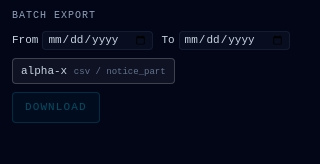
Test case: BatchExportPanel › download stays disabled until both dates and a profile are set; from after to blocks
Check: the element showing "Batch export From To alpha-x csv / notice_part Download" is shown, box [12,10,290,122]
Check: the button "Download" is disabled, box [12,92,100,122]
Type "2026-10-01" into the date field labelled "From" at (98, 40), box [42,31,153,50]
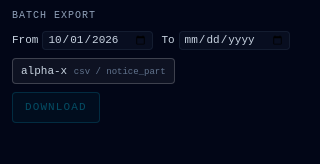
Check: the button "Download" is disabled, box [12,92,100,122]
Type "2026-10-05" into the date field labelled "To" at (234, 40), box [179,31,290,50]
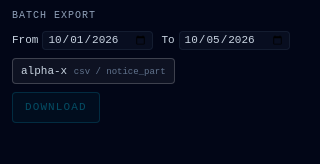
Check: the button "Download" is disabled, box [12,92,100,122]
Click the button "alpha-x csv / notice_part" at (93, 71), box [12,58,175,84]
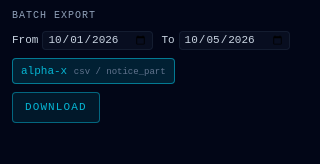
Check: the button "Download" is enabled, box [12,92,100,122]
Type "2026-10-09" into the date field labelled "From" at (98, 40), box [42,31,153,50]
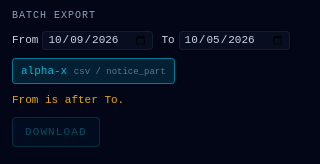
Check: the button "Download" is disabled, box [12,116,100,147]
Check: the text "From is after To." is shown, box [12,94,124,106]
